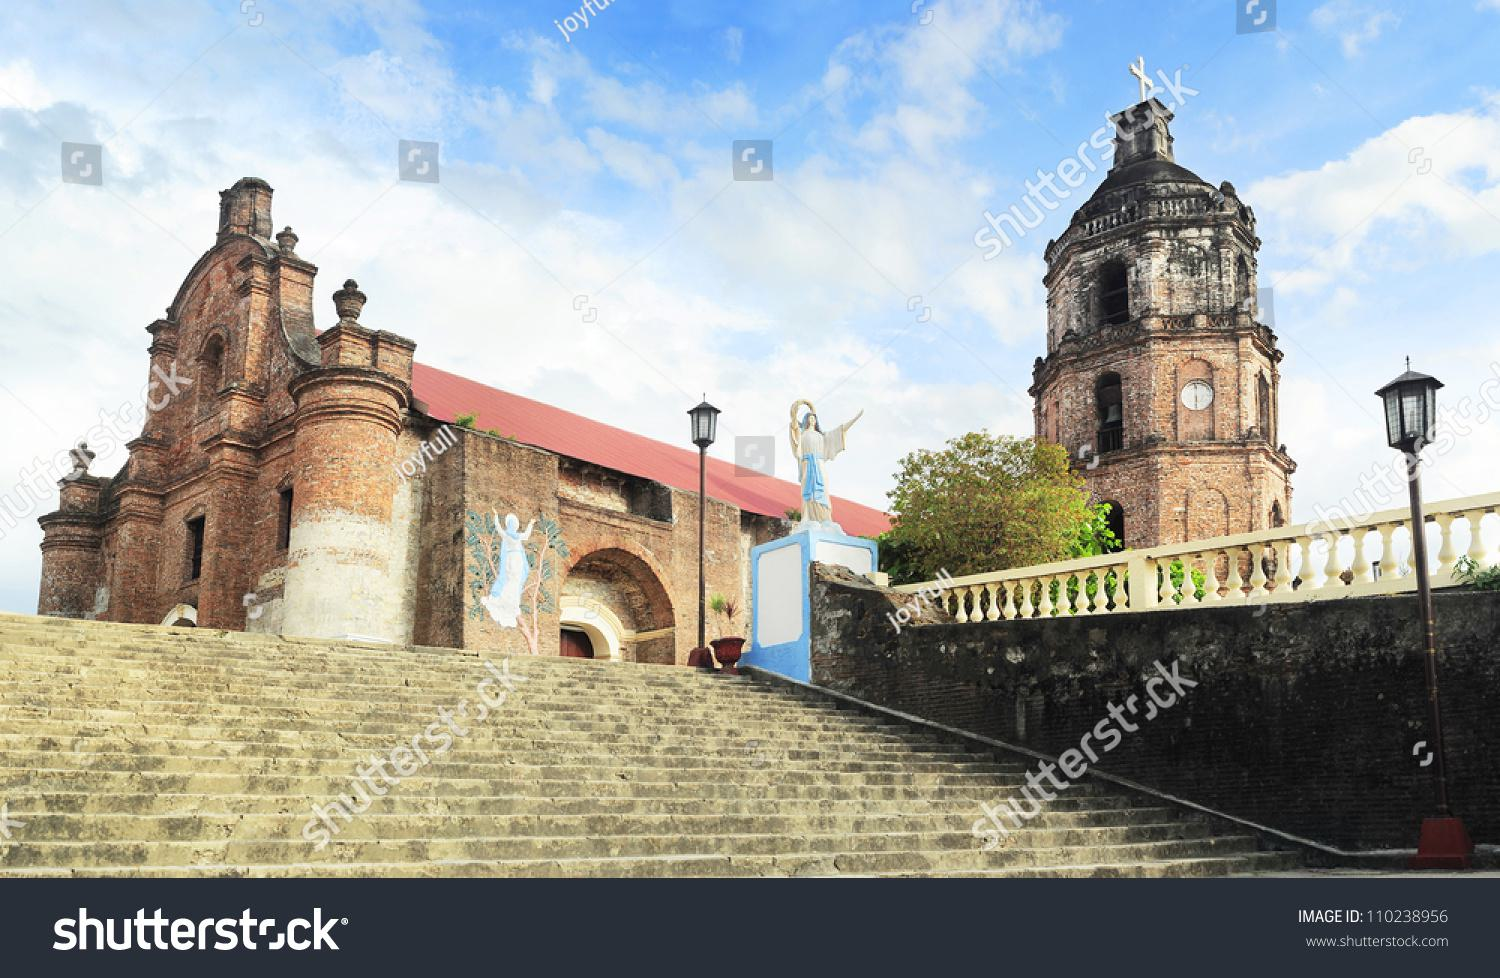Sta. Maria Church: (42, 162, 429, 650)
Unfinished Paint: (267, 492, 423, 658)
